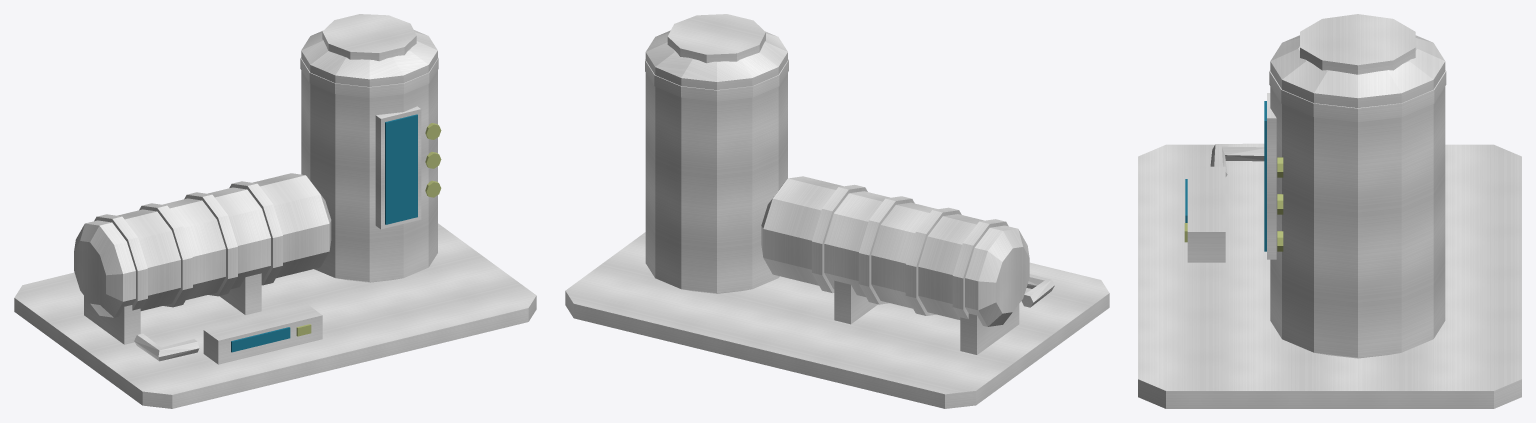
Rendered from emi_dynamo.obj.
3 renders of one model, left to right at view 1: azimuth 30°, elevation 25°; view 2: azimuth 150°, elevation 25°; view 3: azimuth 270°, elevation 25°, orthographic. The views are drawn at different scales.
Visible parts, largest first — view 1: emi_dynamo; view 2: emi_dynamo; view 3: emi_dynamo.
Boxes of the visible parts, x1=… form: emi_dynamo: x1=14, y1=14, x2=536, y2=408; emi_dynamo: x1=565, y1=14, x2=1109, y2=408; emi_dynamo: x1=1138, y1=14, x2=1521, y2=408.
Size of the model in its own units: 5.86 by 3.46 by 3.86.
